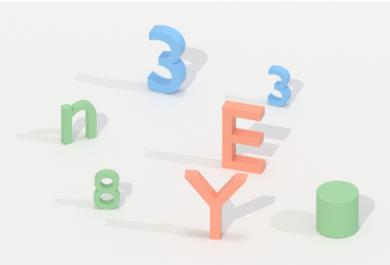0-KhoiTru: (310, 176, 366, 243)
3: (145, 20, 189, 99), (263, 60, 297, 112)
8: (89, 166, 128, 216)
E: (218, 96, 272, 177)
Y: (183, 164, 250, 247)
n: (57, 93, 102, 150)
